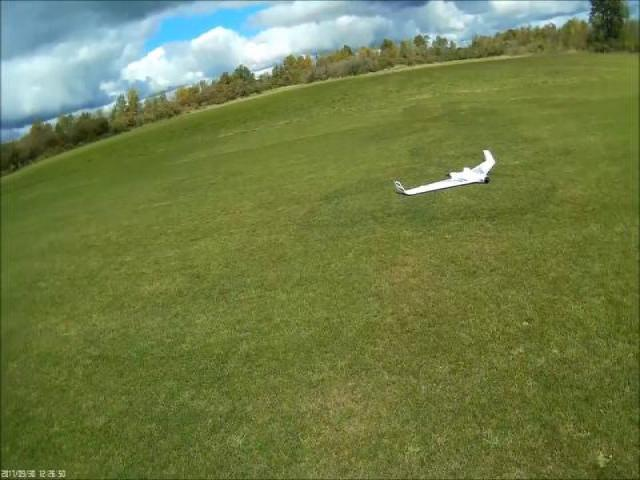flying wing: (387, 145, 500, 200)
